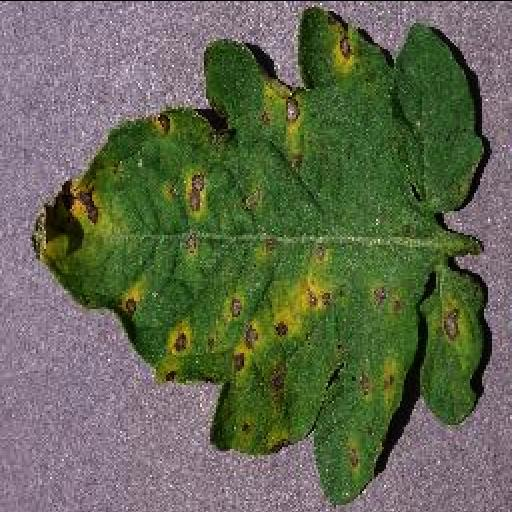disease_tomato: (28, 6, 488, 500)
